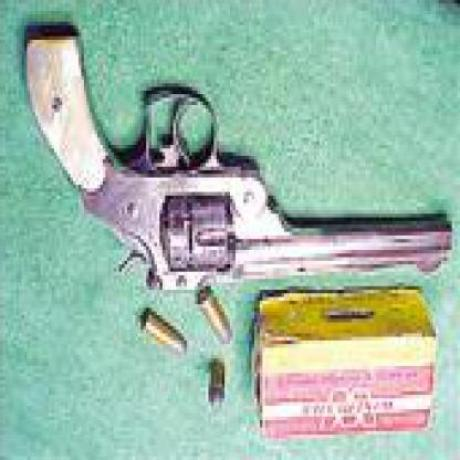weapon: (12, 11, 456, 302)
